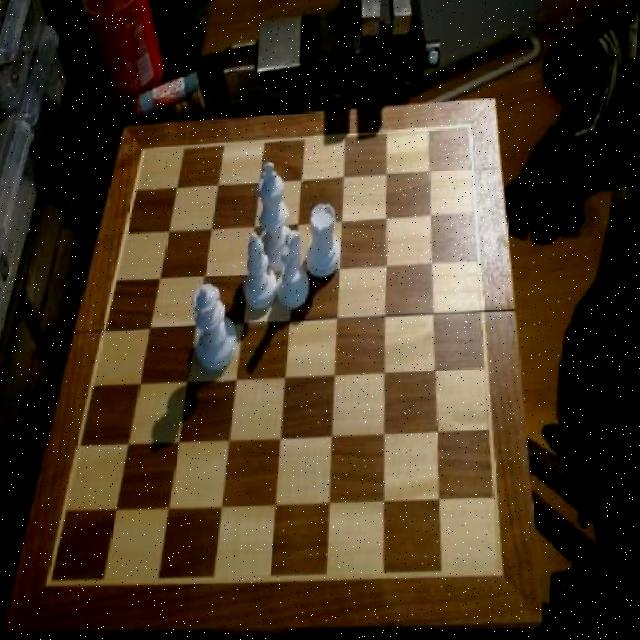black-rook: (244, 232, 284, 314)
white-bishop: (254, 161, 300, 267)
white-king: (276, 230, 316, 314)
white-pawn: (192, 282, 246, 373)
white-queen: (307, 201, 346, 282)
